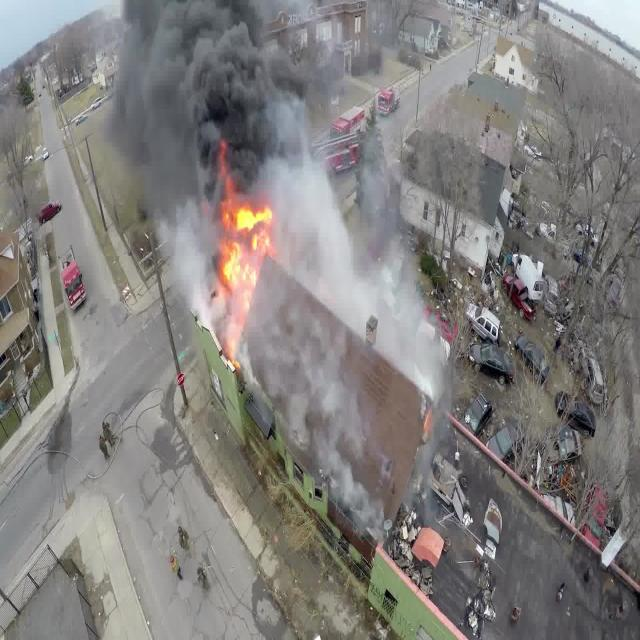Fire: (212, 202, 272, 378)
Smoke: (104, 0, 450, 537)
